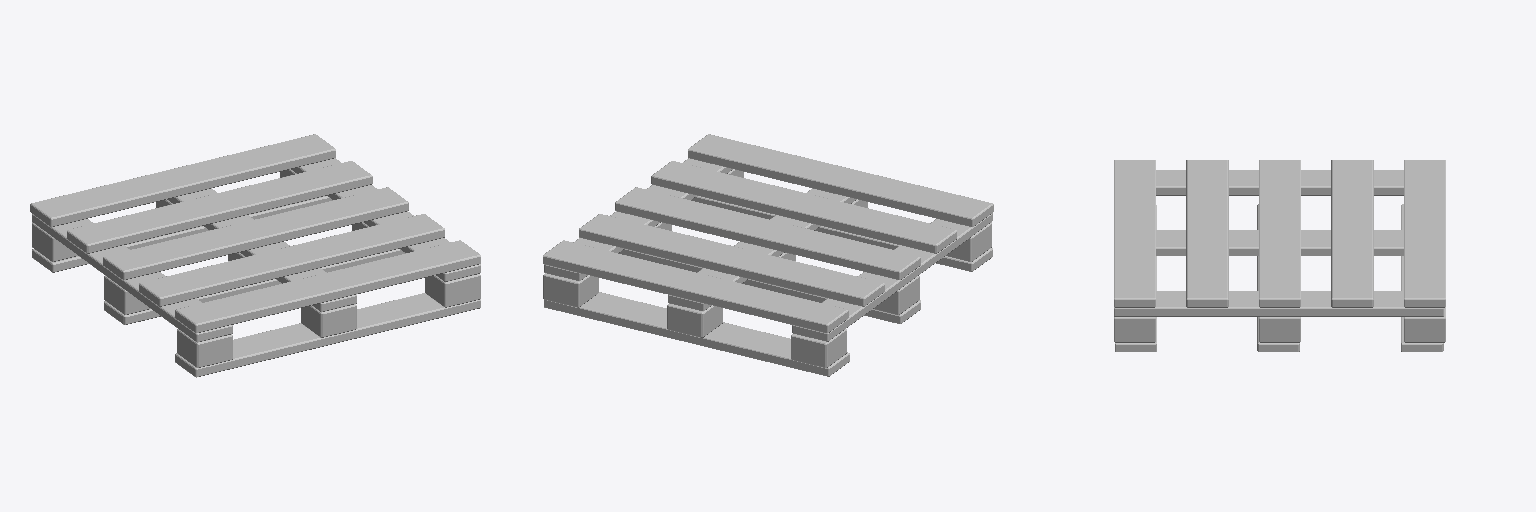
Rendered from palet.obj.
3 renders of one model, left to right at view 1: azimuth 30°, elevation 25°; view 2: azimuth 150°, elevation 25°; view 3: azimuth 270°, elevation 25°, orthographic.
Visible parts, largest first — view 1: Box022; view 2: Box022; view 3: Box022.
Part boxes in pixels (bbox=[...]): Box022: bbox=[30, 134, 480, 377]; Box022: bbox=[543, 134, 993, 376]; Box022: bbox=[1114, 160, 1445, 351].
Size of the model in its own units: 41.25 by 7.44 by 41.46.